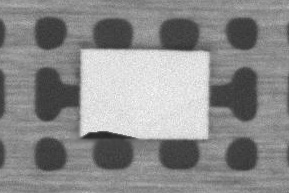DIE_BROKEN: (78, 128, 135, 139)
